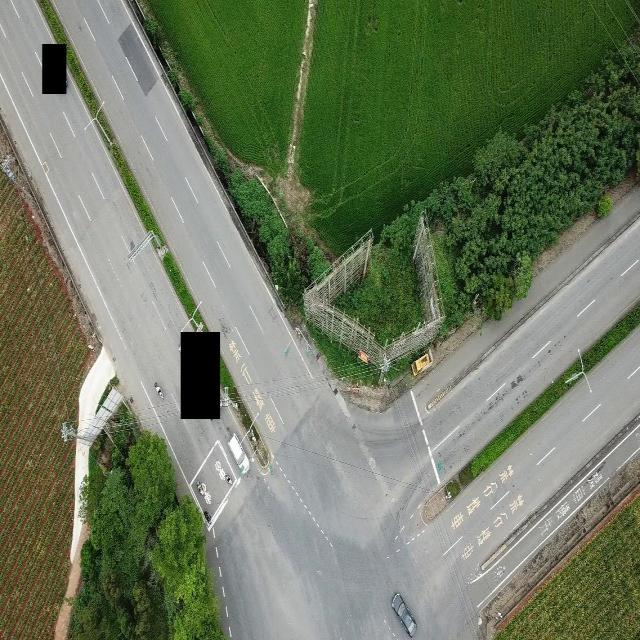bike: (224, 472, 233, 488), (196, 482, 204, 498), (155, 380, 161, 400), (204, 511, 212, 524)
car: (392, 592, 416, 637), (229, 433, 249, 473)
